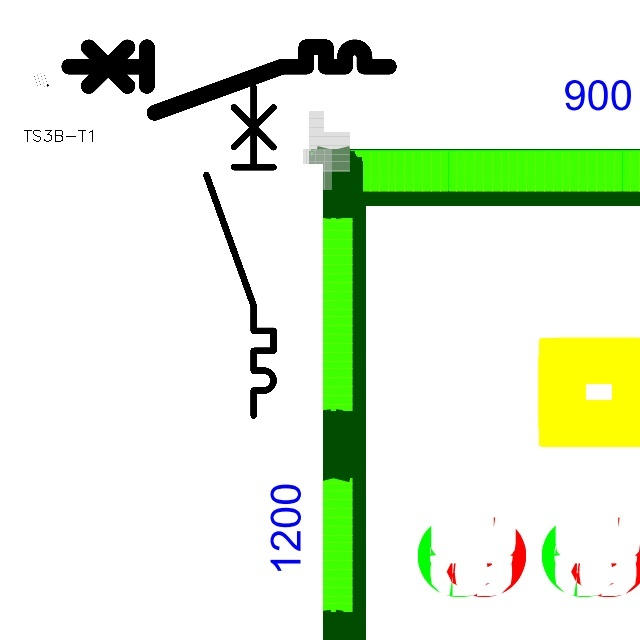interruptor_termomagnetico: (198, 79, 282, 424), (60, 39, 396, 121)
